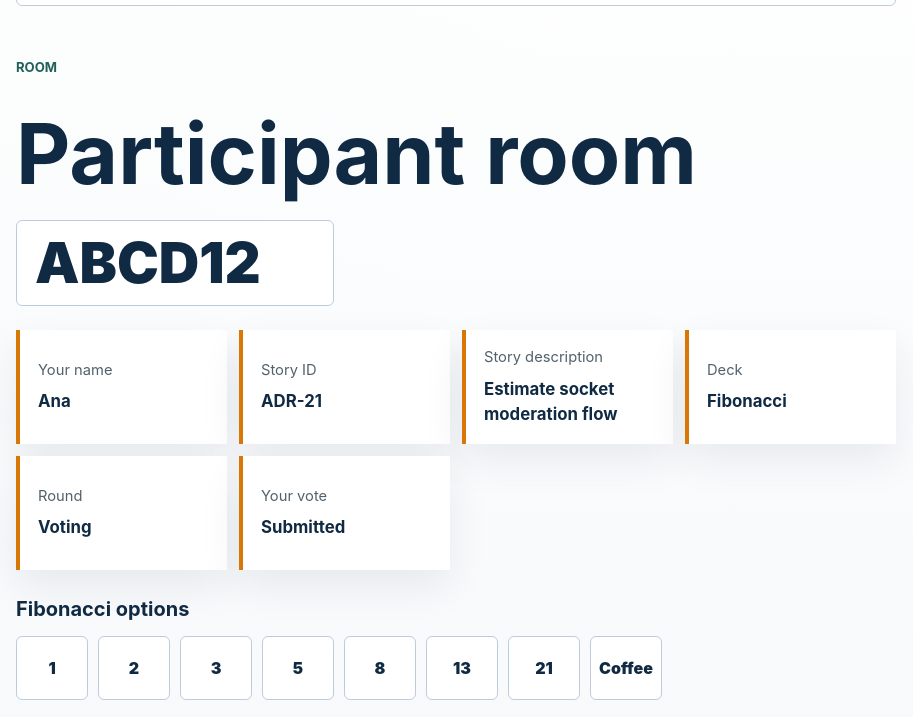
Test: ParticipantSessionView › lets participants change their selected vote before reveal
Click the button named "Change vote to 5" at (298, 668), box [262,636,334,700]
(page scrolled)
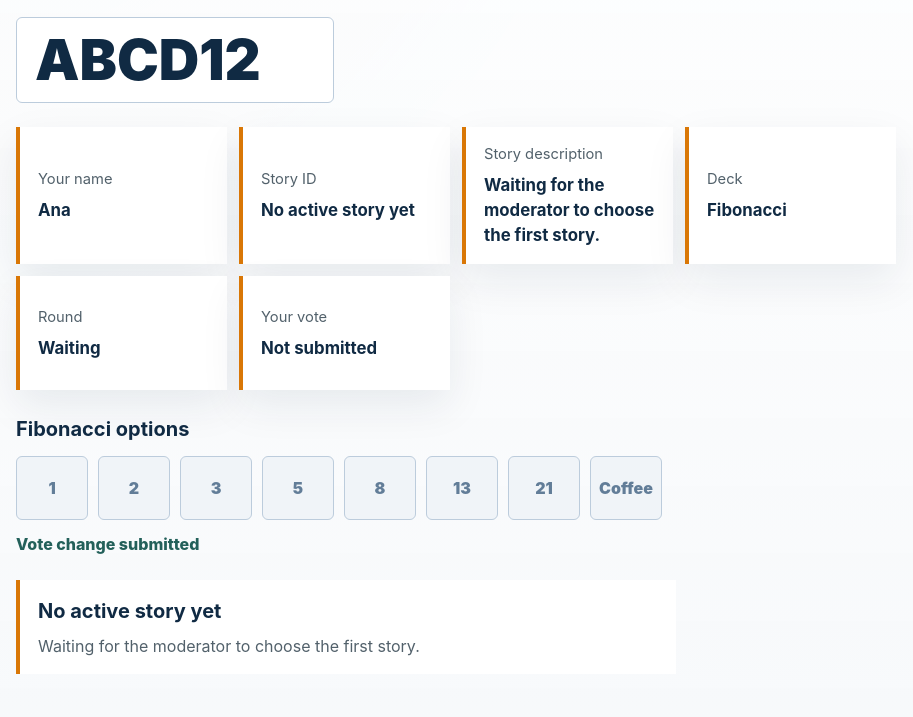
Expected: the text "Vote change submitted" is shown, [16,534,199,554]
